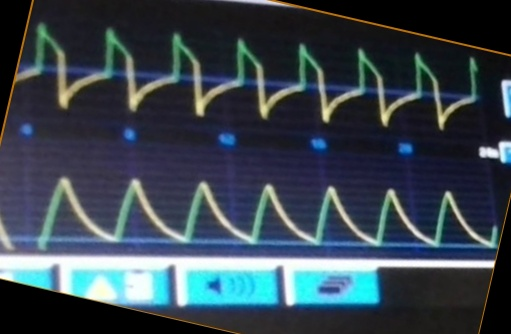Normal Flow: (20, 19, 481, 129)
Normal Volume: (1, 159, 497, 252)
